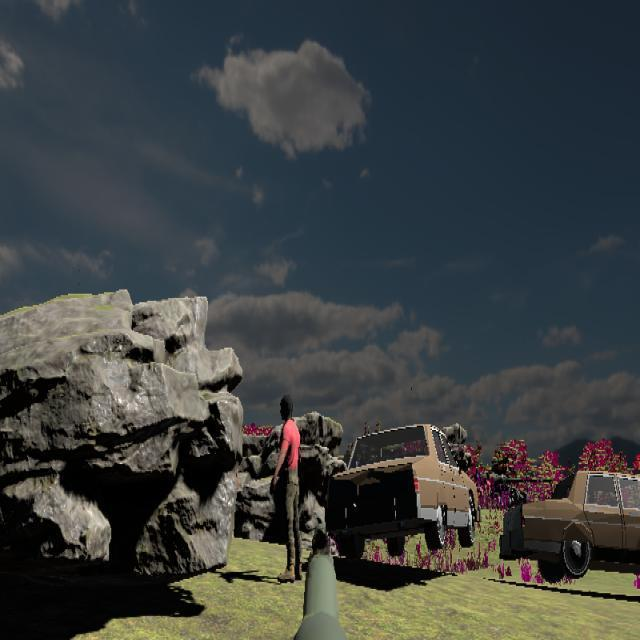Human: (269, 403, 312, 577)
car: (324, 424, 480, 557), (500, 468, 639, 584)
